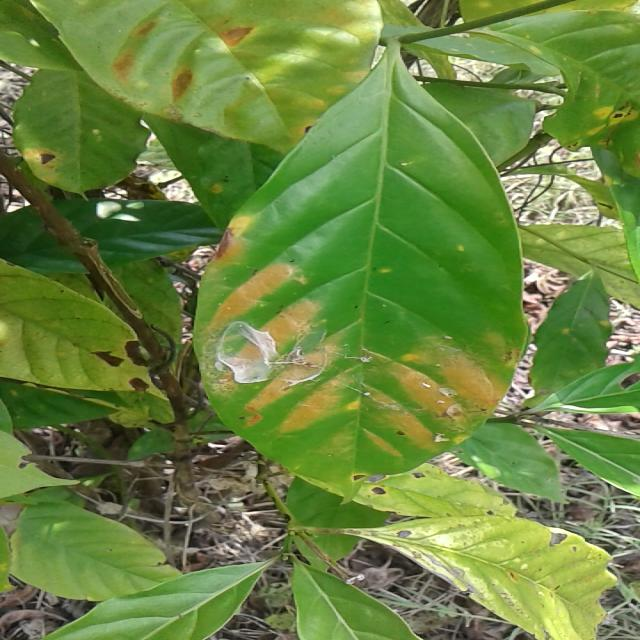Plaga-AranaRoja: (193, 44, 528, 500)
